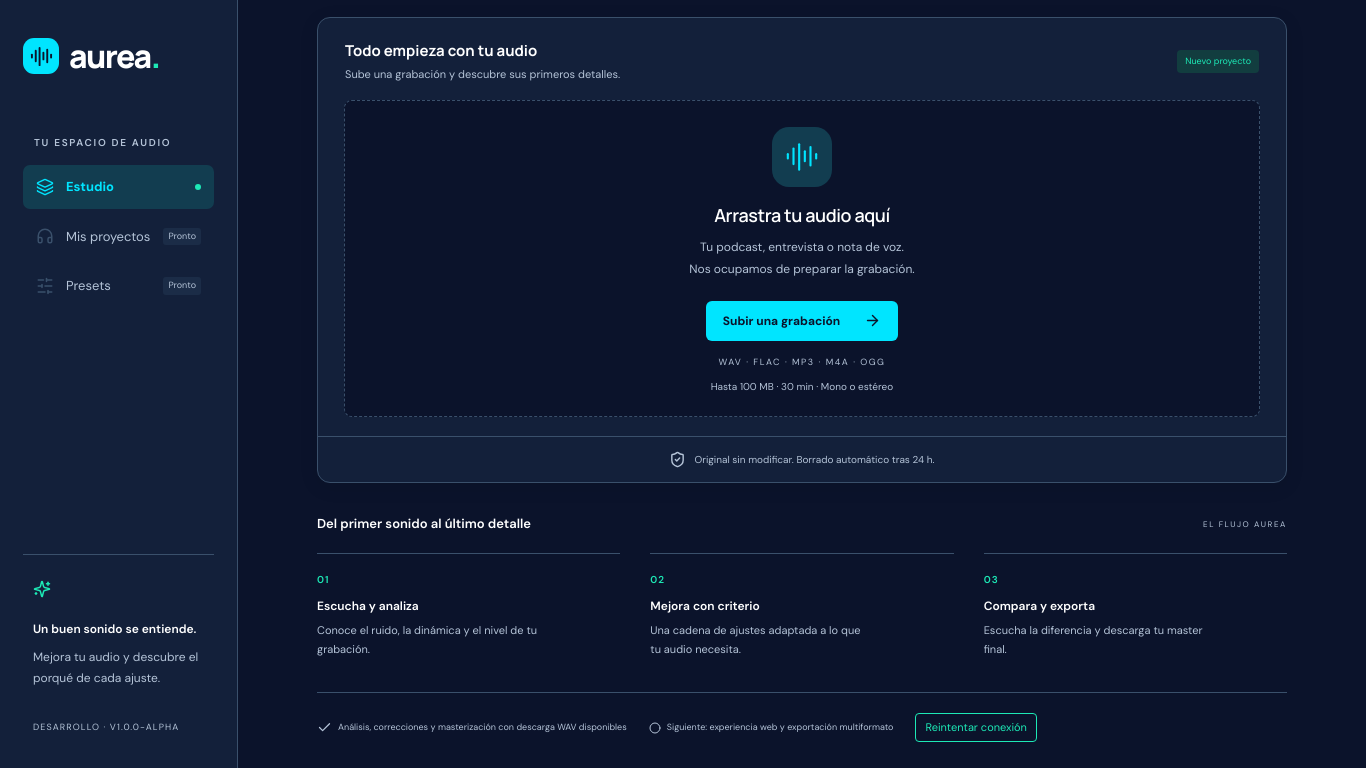
it: allows recovery after a connection failure
The width and height of the screenshot is (1366, 768).
(page scrolled)
Click the button "Reintentar conexión": {"x": 976, "y": 728} [915,713,1037,742]
(page scrolled)
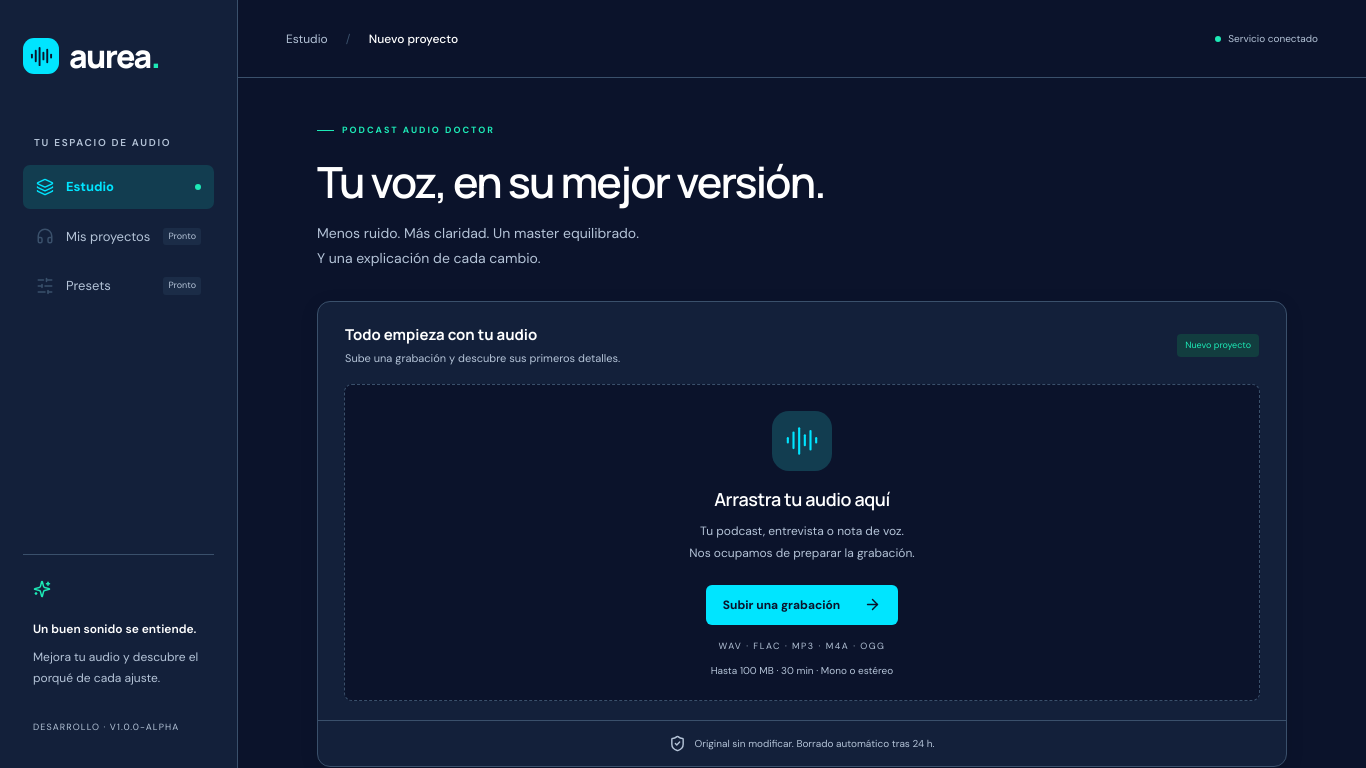
Check: the text "Servicio conectado" is shown, box [1215,31,1318,46]
